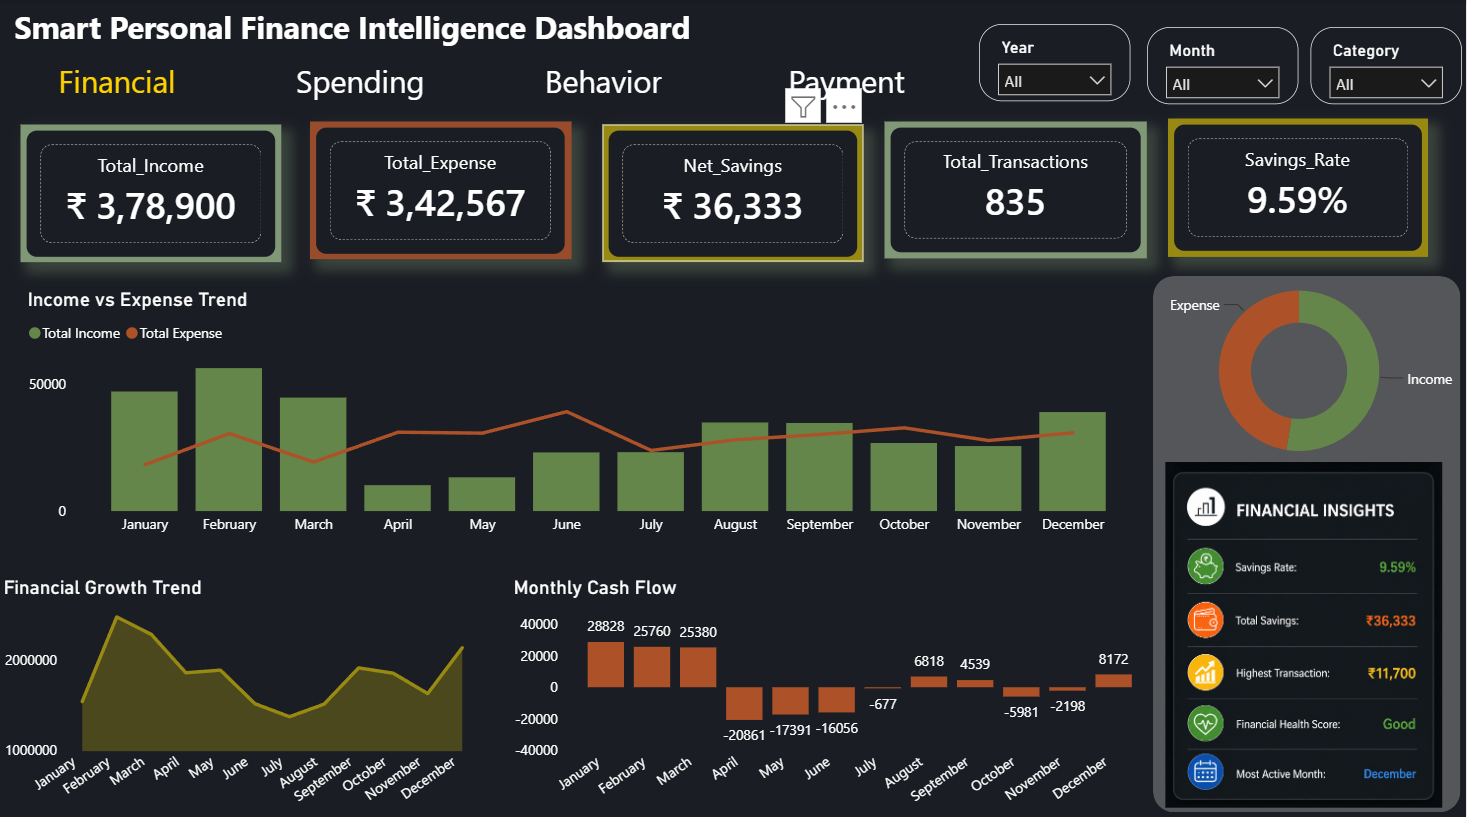

Layout of this report page (visuals, bound fields, positions):
{"tool":"powerbi","page":{"name":"Financial","canvas":[1280,720],"ordinal":0},"visuals":[{"type":"textbox","box":[9.4,0,1269.9,69.9],"z":0},{"type":"cardVisual","fields":{"Data":["Sheet1.Total_Income"]},"box":[19.6,107.9,227,120],"z":1000},{"type":"cardVisual","title":"T","fields":{"Data":["Sheet1.Total_Expense"]},"box":[272.6,106.3,227.7,120],"z":2000},{"type":"cardVisual","title":"T","fields":{"Data":["Sheet1.Net_Savings"]},"box":[527.2,107.9,227,120],"z":3000},{"type":"cardVisual","title":"T","fields":{"Data":["Sheet1.Savings Rate Display"]},"box":[1020.5,103.9,226.8,120.9],"z":4000},{"type":"cardVisual","title":"T","fields":{"Data":["Sheet1.Total Transactions Display"]},"box":[772.9,105.8,228.7,119.1],"z":5000},{"type":"lineClusteredColumnComboChart","title":"Income vs Expense Trend","fields":{"Category":["Sheet1.Month_Year.Variation.Date Hierarchy.Month"],"Y":["Sheet1.Total Income"],"Y2":["Sheet1.Total Expense"]},"box":[21.2,251.4,979.7,224.1],"z":6000},{"type":"lineChart","title":"Financial Growth Trend","fields":{"Y":["Sum(Sheet1.Running_Balance)"],"Category":["Sheet1.Date.Variation.Date Hierarchy.Month"]},"box":[0,502.7,421.4,217.3],"z":7000},{"type":"shape","box":[1006.9,241.2,268,467.5],"z":8000,"group":"g1"},{"type":"columnChart","title":"Monthly Cash Flow","fields":{"Category":["Sheet1.Month_Year.Variation.Date Hierarchy.Month"],"Y":["Sheet1.Monthly Cash Flow"]},"box":[444.1,502.7,565,217.3],"z":8000},{"type":"slicer","fields":{"Values":["Sheet1.Year"]},"box":[855.7,21.6,132.3,67.6],"z":9000},{"type":"slicer","fields":{"Values":["Sheet1.Month"]},"box":[1000.9,23,132.3,67.6],"z":10000},{"type":"slicer","fields":{"Values":["Sheet1.Category"]},"box":[1144.7,23,132.3,67.6],"z":11000},{"type":"group","id":"g1","title":"Group 1","box":[993.3,222.6,281.6,486.1],"z":12000},{"type":"donutChart","fields":{"Y":["Sum(Sheet1.Amount_Abs)"],"Category":["Sheet1.Income_Expense"]},"box":[993.3,222.6,280.1,201.2],"z":12000,"group":"g1"},{"type":"pageNavigator","box":[3,45.4,841,48.5],"z":13000},{"type":"image","box":[1000.9,402.8,275.6,301.3],"z":13001}]}

Visuals, with their boxes in screenshot pixels (x1, y1, x2, y2), scaled from the page's 1280x720 canvas onto the 1467x817 screenshot:
textbox: 11 0 1466 79
cardVisual - Sheet1.Total_Income: 22 122 283 259
"T" cardVisual: 312 121 573 257
"T" cardVisual: 604 122 864 259
"T" cardVisual: 1170 118 1430 255
"T" cardVisual: 886 120 1148 255
"Income vs Expense Trend" lineClusteredColumnComboChart: 24 285 1147 540
"Financial Growth Trend" lineChart: 0 570 483 816
shape: 1154 274 1461 804
"Monthly Cash Flow" columnChart: 509 570 1157 816
slicer - Sheet1.Year: 981 25 1132 101
slicer - Sheet1.Month: 1147 26 1299 103
slicer - Sheet1.Category: 1312 26 1464 103
"Group 1" group: 1138 253 1461 804
donutChart - Sum(Sheet1.Amount_Abs) x Sheet1.Income_Expense: 1138 253 1459 481
pageNavigator: 3 52 967 107
image: 1147 457 1463 799
